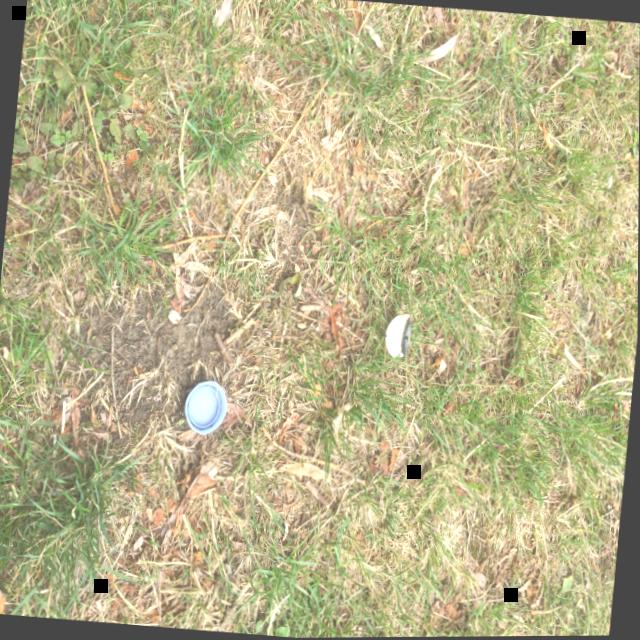Metal bottle cap: (385, 313, 411, 360)
Plastic bottle cap: (184, 380, 228, 433)
